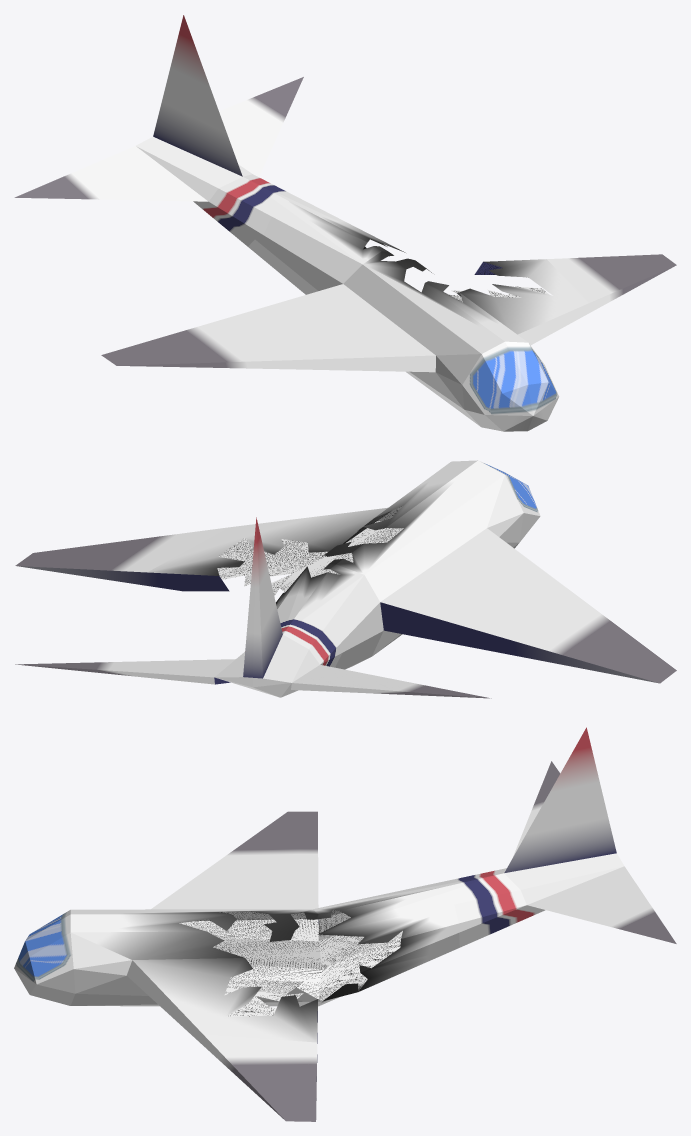
The model's file is airplain.fbx.
The picture shows the model from 3 angles, top to bottom: view 1: azimuth 30°, elevation 25°; view 2: azimuth 150°, elevation 25°; view 3: azimuth 270°, elevation 25°; orthographic projection. The views are drawn at different scales.
Visible parts, largest first — view 1: Cylinder; view 2: Cylinder; view 3: Cylinder.
Part boxes in pixels (bbox=[...]): Cylinder: bbox=[14, 15, 676, 431]; Cylinder: bbox=[15, 460, 676, 698]; Cylinder: bbox=[14, 727, 676, 1121].
Bounding box in the file's own units: 1347 × 556 × 1374.
